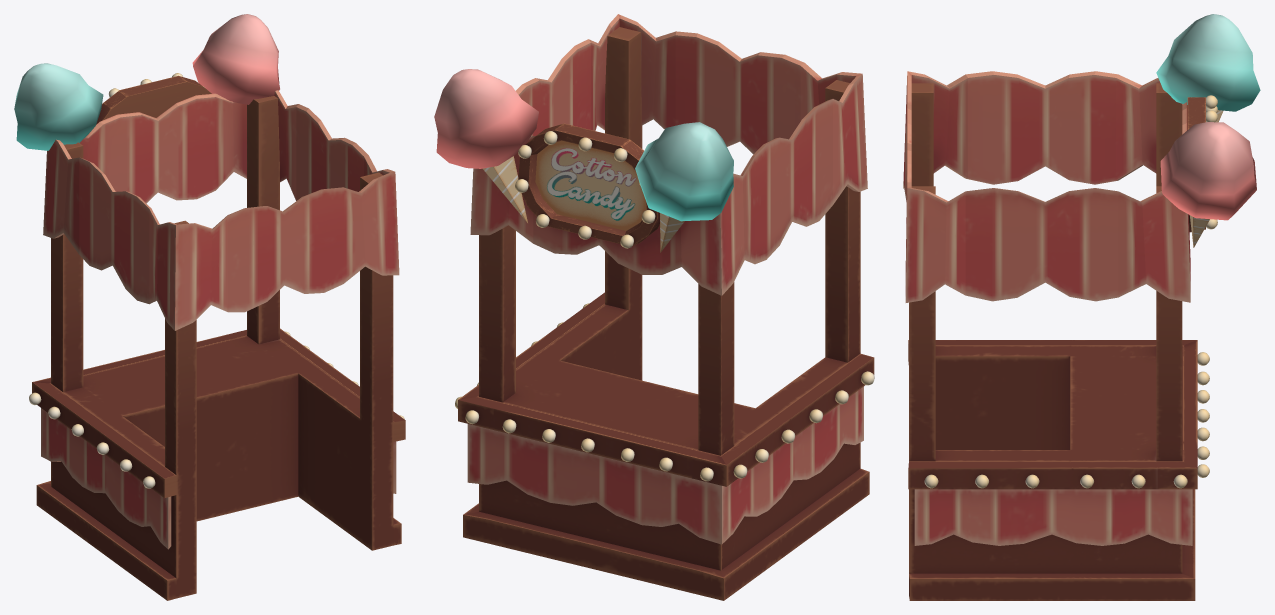
Rendered from cottoncandystandUVtextured.fbx.
The picture shows the model from 3 angles, left to right: view 1: azimuth 30°, elevation 25°; view 2: azimuth 150°, elevation 25°; view 3: azimuth 270°, elevation 25°; orthographic projection. The views are drawn at different scales.
Parts seen in each view (by area): view 1: frame, awning, cottoncandyblue, cottoncandypink, sign, CottonCandyStand_Bulbs; view 2: frame, awning, sign, cottoncandypink, cottoncandyblue, CottonCandyStand_Bulbs; view 3: awning, frame, cottoncandypink, cottoncandyblue, CottonCandyStand_Bulbs, sign.
Boxes of the visible parts, <box> form: frame: <box>32,96,405,600</box>; awning: <box>41,90,399,549</box>; cottoncandyblue: <box>14,63,103,150</box>; cottoncandypink: <box>192,14,279,104</box>; sign: <box>96,75,211,124</box>; CottonCandyStand_Bulbs: <box>29,73,404,488</box>; frame: <box>458,27,874,600</box>; awning: <box>467,14,867,544</box>; sign: <box>518,123,659,245</box>; cottoncandypink: <box>434,69,538,222</box>; cottoncandyblue: <box>635,122,733,252</box>; CottonCandyStand_Bulbs: <box>455,131,874,481</box>; awning: <box>903,71,1192,545</box>; frame: <box>908,83,1197,600</box>; cottoncandypink: <box>1160,122,1256,247</box>; cottoncandyblue: <box>1156,14,1260,122</box>; CottonCandyStand_Bulbs: <box>924,95,1217,488</box>; sign: <box>1187,97,1205,232</box>.
Size of the model in its own units: 206 by 324 by 224.
1 material, 1 textured.
